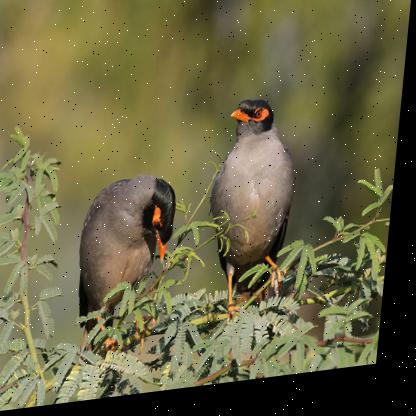Burung: (205, 101, 306, 327), (76, 174, 182, 358)
